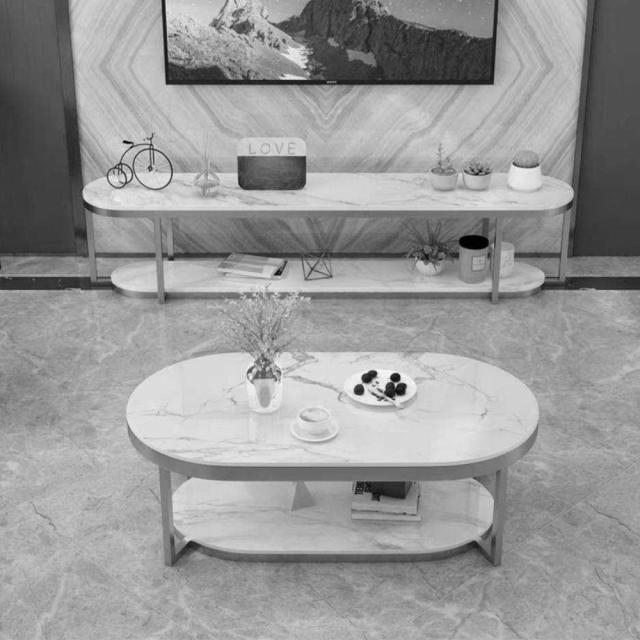table: (59, 138, 581, 292), (120, 330, 552, 516)
